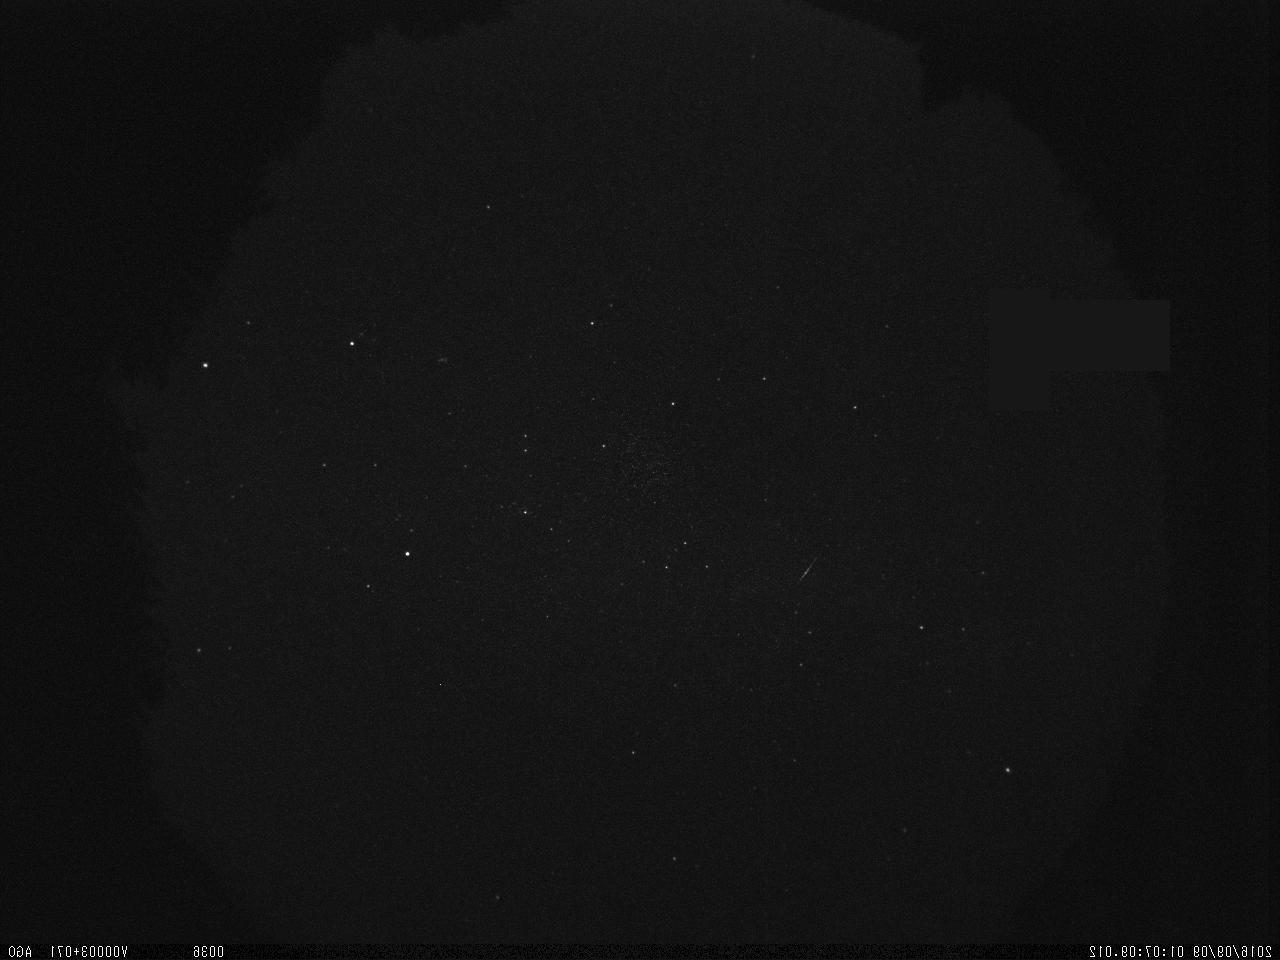meteor: (789, 548, 826, 592)
